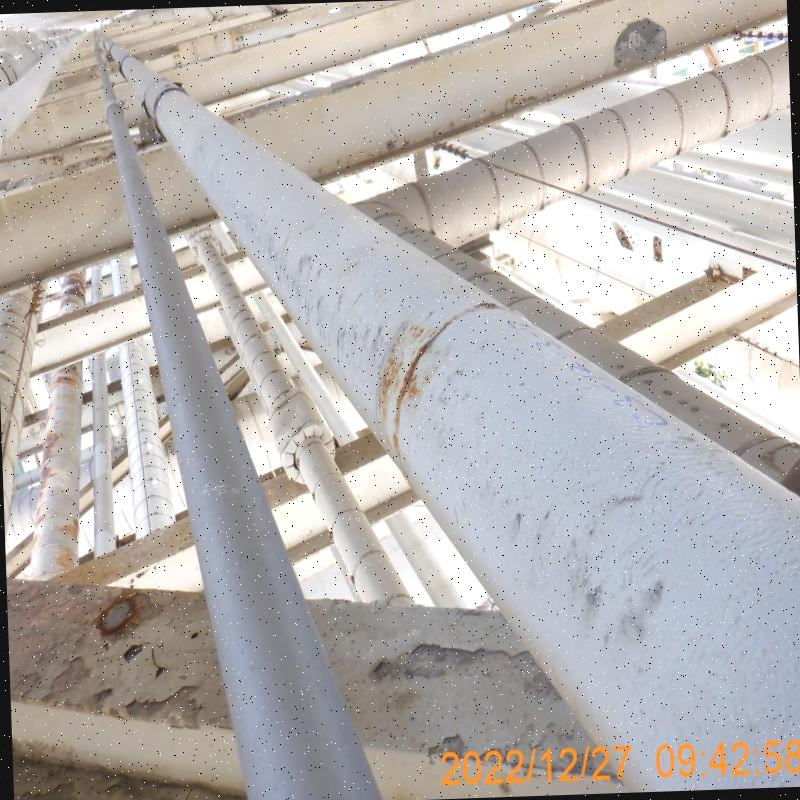corrosion: (387, 318, 465, 376)
